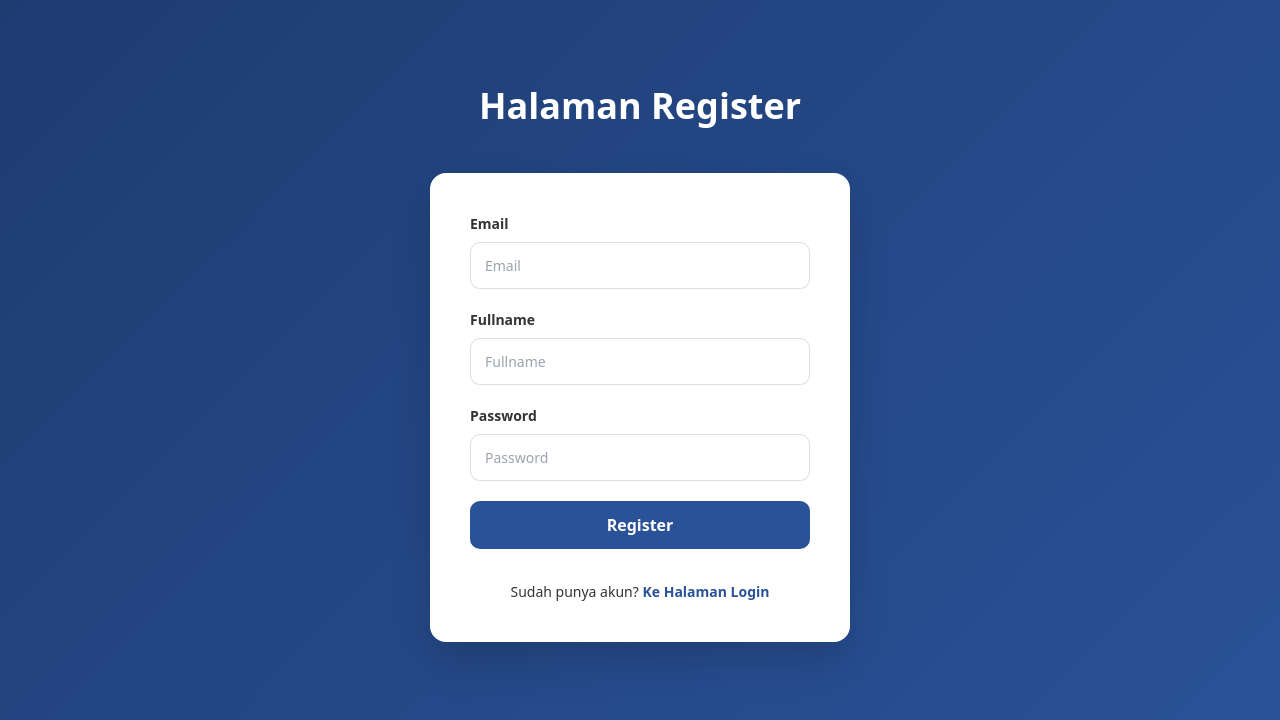
Test: Register Page › error jika email kosong
This screenshot has width=1280, height=720.
Click the button "Register": {"x": 640, "y": 524} x1=470 y1=500 x2=810 y2=548
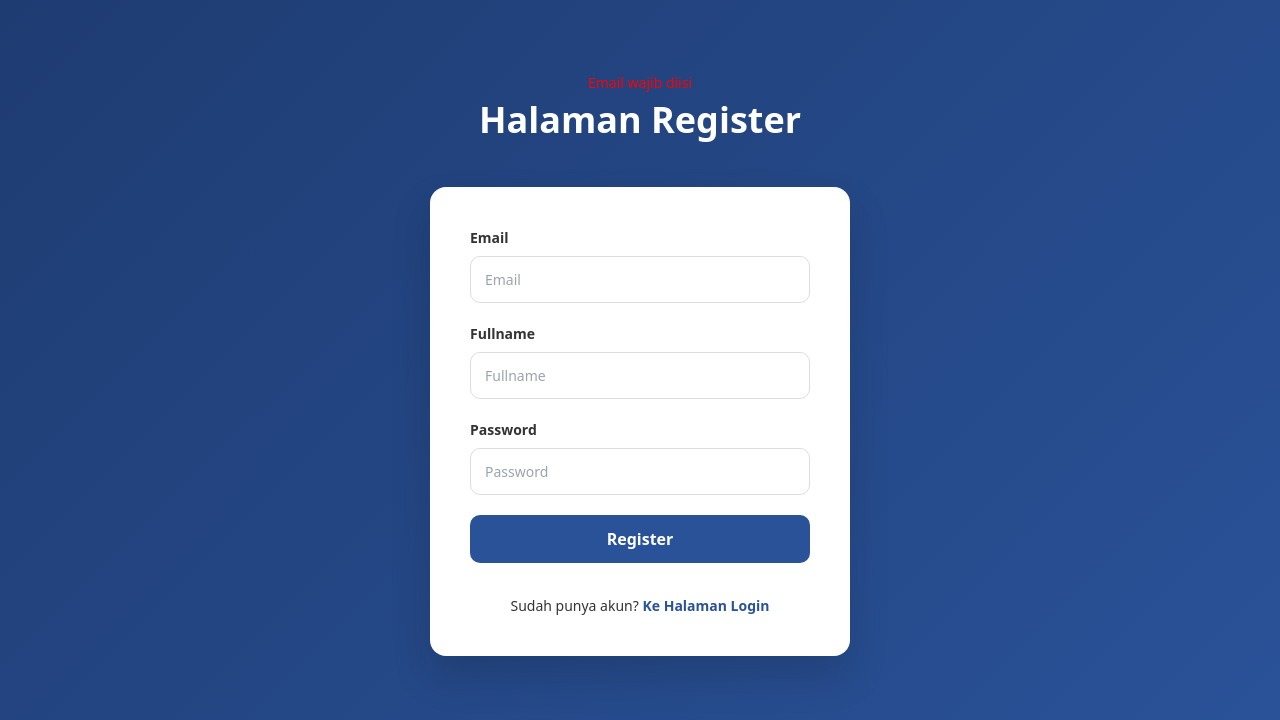
Expected: the text "Email wajib diisi" is shown, x1=588 y1=72 x2=692 y2=93
